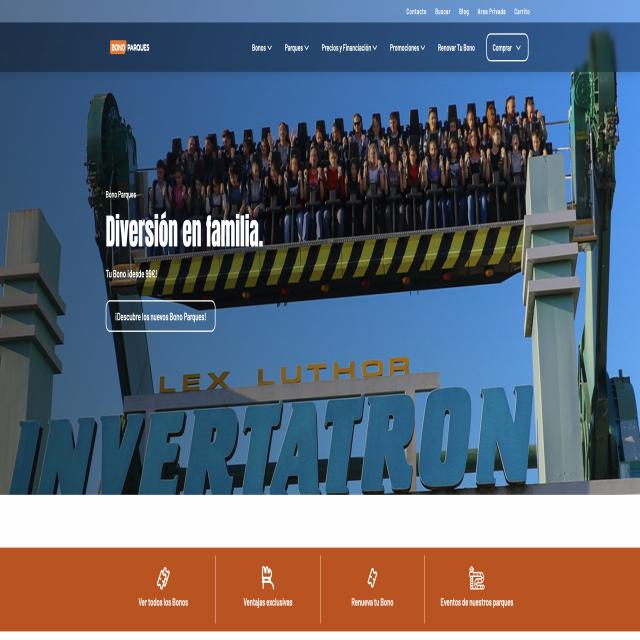Logo: (102, 26, 157, 70)
Navigation: (244, 31, 535, 68)
